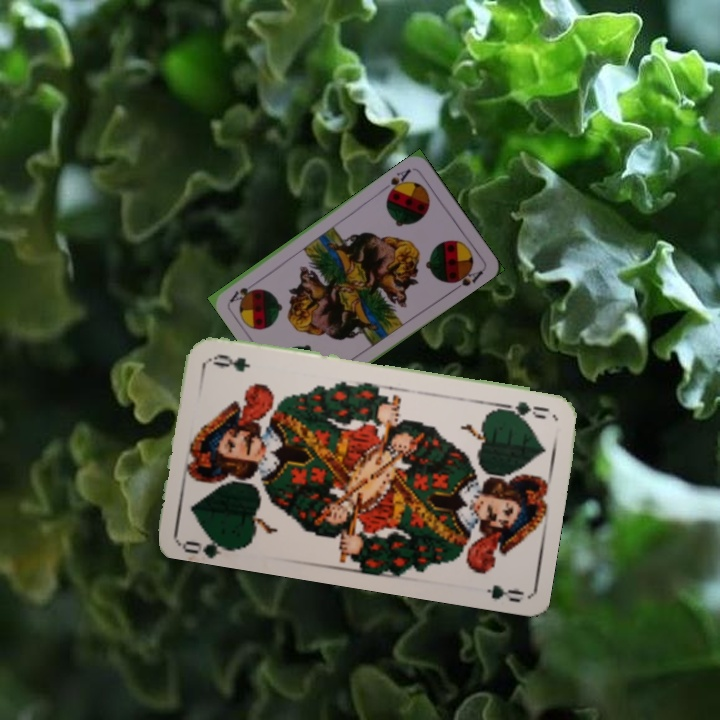GO: (178, 527, 238, 558), (495, 397, 552, 422)
SA: (383, 164, 414, 198)
